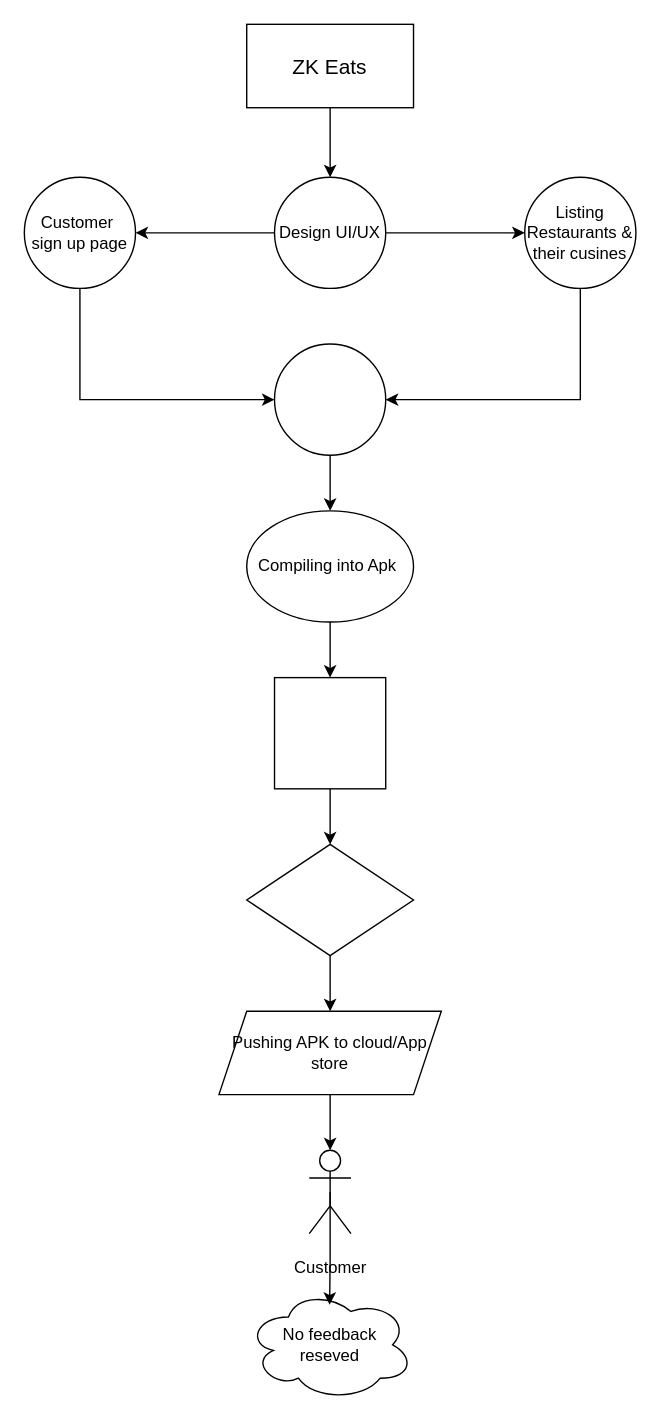
This 660x1425 diagram has some shape labels left out. Each missing label, with the box of its shape:
Checkout page & RTS: (273, 343, 386, 455)
No Bugs found: (273, 676, 386, 789)
Writing permissions for deployment: (245, 843, 414, 956)
